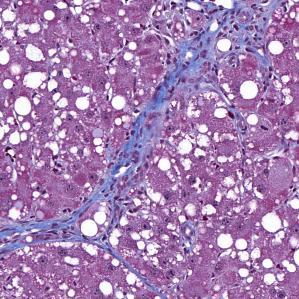fibrosis: (158, 0, 275, 90), (107, 118, 159, 211), (0, 215, 79, 255)
